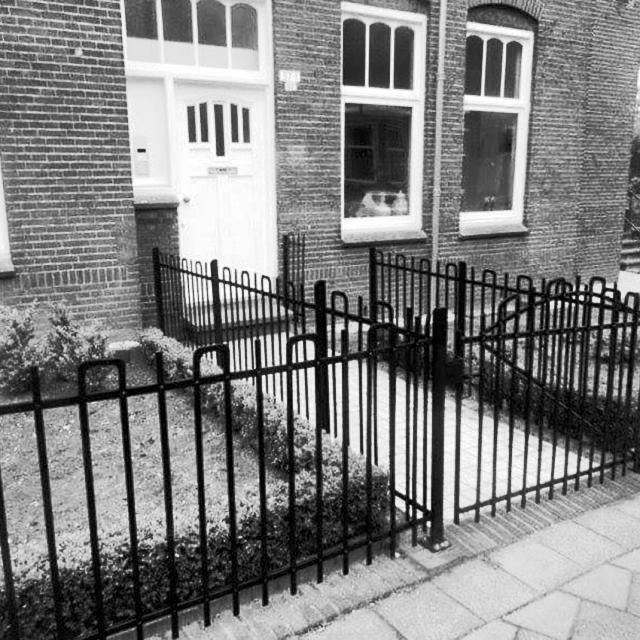fences: (61, 253, 640, 634)
